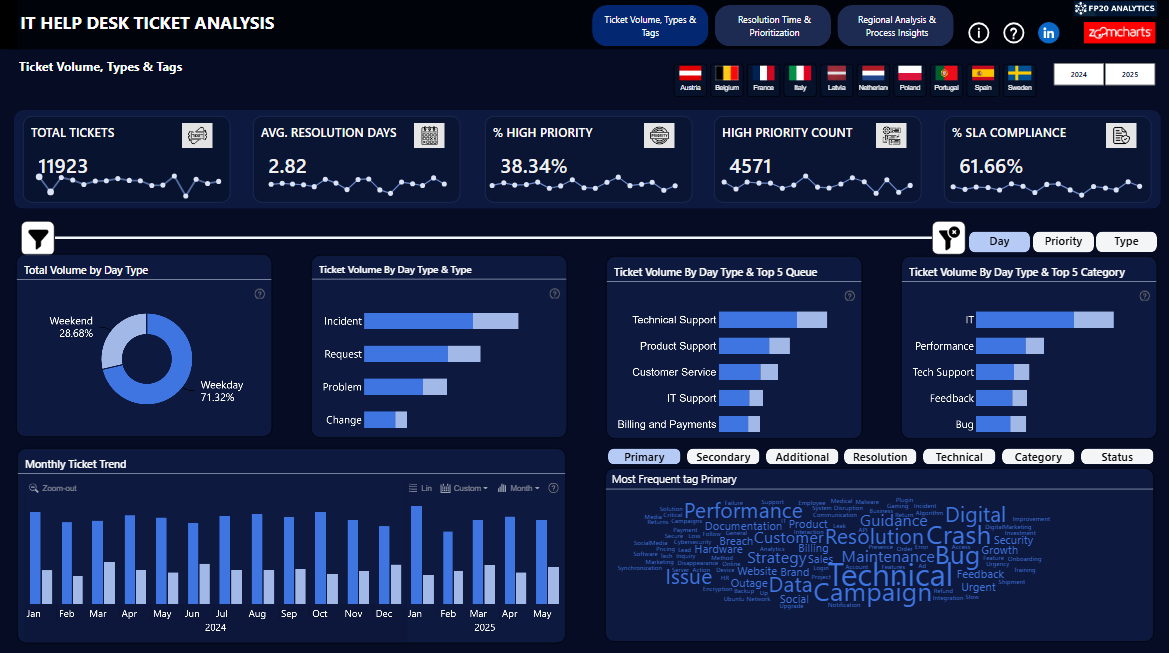

The page's visual inventory and layout, read from the dashboard file:
{"tool":"powerbi","page":{"name":"Ticket Volume, Types & Tags","canvas":[1920,1080],"ordinal":0},"visuals":[{"type":"textbox","box":[0,0,31.6,83.5],"z":0},{"type":"shape","box":[24.2,128.7,1880.3,162],"z":0,"group":"g10"},{"type":"cardVisual","title":"AVG. RESOLUTION DAYS","fields":{"Data":["dax_measures.Avg Resolution Days"]},"box":[415,138.5,340,141.8],"z":0,"group":"g4"},{"type":"cardVisual","title":"% HIGH PRIORITY ","fields":{"Data":["dax_measures.High Priority %"]},"box":[794.4,138.5,340,141.8],"z":0,"group":"g3"},{"type":"cardVisual","title":"HIGH PRIORITY COUNT","fields":{"Data":["dax_measures.High Priority"]},"box":[1171.2,138.5,340,141.8],"z":0,"group":"g2"},{"type":"cardVisual","title":"% SLA COMPLIANCE ","fields":{"Data":["dax_measures.SLA Compliance %"]},"box":[1548.3,138.5,340,141.8],"z":0,"group":"g1"},{"type":"cardVisual","title":"TOTAL TICKETS ","fields":{"Data":["dax_measures.Total Tickets"]},"box":[38.2,139.1,340,141.8],"z":0,"group":"g6"},{"type":"actionButton","box":[1593.9,323.9,100,38.6],"z":0,"group":"g7"},{"type":"actionButton","box":[1596,325.6,100,38.6],"z":0,"group":"g8"},{"type":"ZoomChartsPieChartPaidE77E4ED357DC402ABA005987437CF500","title":"Total Volume by Day Type ","fields":{"Category":["dim_date.Weekend Flag"],"Values":["dax_measures.Total Tickets"]},"box":[32.1,379,432.8,326.2],"z":0,"group":"g5"},{"type":"actionButton","box":[935.7,718.6,120,40],"z":0,"group":"g9"},{"type":"group","id":"g1","title":"KPI Cards","box":[38.2,138.5,1850.1,143.1],"z":1000,"group":"g10"},{"type":"group","id":"g2","title":"Group 4","box":[1171.2,138.5,340,141.8],"z":1000,"group":"g1"},{"type":"image","box":[679.6,150.7,50,40.5],"z":1000,"group":"g4"},{"type":"image","box":[1055.4,150.7,50,40.5],"z":1000,"group":"g3"},{"type":"image","box":[1436.8,150.7,50,40.5],"z":1000,"group":"g2"},{"type":"lineChart","fields":{"Category":["dim_date.Date.Variation.Date Hierarchy.Year","dim_date.Date.Variation.Date Hierarchy.Quarter","dim_date.Date.Variation.Date Hierarchy.Month"],"Y":["dax_measures.Total Tickets"]},"box":[49.1,220.1,324.3,61.3],"z":1000,"group":"g6"},{"type":"actionButton","title":"PRIORITY","box":[1698.6,324.3,100,38.6],"z":1000,"group":"g7"},{"type":"actionButton","title":"PRIORITY","box":[1700.7,326,100,38.6],"z":1000,"group":"g8"},{"type":"shape","box":[22.9,364.3,1887.1,702.9],"z":1000},{"type":"ZoomChartsDrillDownComboBarProE77E4ED357DC402ABA005987437CF8","title":"Ticket Volume By Day Type & Type ","fields":{"Values1":["dax_measures.Total Tickets"],"Legend":["dim_date.Weekend Flag"],"Category":["fact_tickets.Type"]},"box":[475.4,381.5,452.3,325],"z":1000,"group":"g5"},{"type":"actionButton","box":[1065.7,718.6,120,40],"z":1000,"group":"g9"},{"type":"image","box":[299.6,150.7,50,40.5],"z":2000,"group":"g6"},{"type":"image","box":[1813.9,150.7,50,40.5],"z":2000,"group":"g1"},{"type":"lineChart","fields":{"Category":["dim_date.Date.Variation.Date Hierarchy.Year","dim_date.Date.Variation.Date Hierarchy.Quarter","dim_date.Date.Variation.Date Hierarchy.Month"],"Y":["dax_measures.Avg Resolution Days"]},"box":[429.2,219.5,313.9,62.1],"z":2000,"group":"g4"},{"type":"lineChart","fields":{"Category":["dim_date.Date.Variation.Date Hierarchy.Year","dim_date.Date.Variation.Date Hierarchy.Quarter","dim_date.Date.Variation.Date Hierarchy.Month"],"Y":["dax_measures.High Priority %"]},"box":[791.8,219.5,330,60.8],"z":2000,"group":"g3"},{"type":"lineChart","fields":{"Category":["dim_date.Date.Variation.Date Hierarchy.Year","dim_date.Date.Variation.Date Hierarchy.Quarter","dim_date.Date.Variation.Date Hierarchy.Month"],"Y":["dax_measures.High Priority"]},"box":[1172.5,219.5,335,60.8],"z":2000,"group":"g2"},{"type":"shape","box":[82.8,269,1437.9,110.3],"z":2000},{"type":"actionButton","box":[1802.6,324.1,100,38],"z":2000,"group":"g7"},{"type":"actionButton","box":[1804.7,325.8,100,38],"z":2000,"group":"g8"},{"type":"ZoomChartsDrillDownComboBarProE77E4ED357DC402ABA005987437CF8","title":"Ticket Volume By Day Type & Top 5 Queue","fields":{"Values1":["dax_measures.Total Tickets"],"Legend":["dim_date.Weekend Flag"],"Category":["fact_tickets.Queue"]},"box":[938,382.3,478.7,324.6],"z":2000,"group":"g5"},{"type":"actionButton","box":[1195.7,718.6,120,40],"z":2000,"group":"g9"},{"type":"textbox","title":"IT HELP DESK TICKET ANALYSIS","box":[31.8,0,1888.2,83],"z":3000},{"type":"group","id":"g3","title":"Group 3","box":[791.8,138.5,342.6,141.8],"z":3000,"group":"g1"},{"type":"ZoomChartsDrillDownTimelinePro7F6C01BA1C534E9AB4A6BCCB44F591","title":"Monthly Ticket Trend","fields":{"Values1":["dax_measures.Total Tickets"],"Category":["dim_date.Date.Variation.Date Hierarchy.Year","dim_date.Date.Variation.Date Hierarchy.Quarter","dim_date.Date.Variation.Date Hierarchy.Month","dim_date.Date.Variation.Date Hierarchy.Day"],"DateValue":["Min(dim_date.Date)"],"Legend":["dim_date.Weekend Flag"]},"box":[38.5,716.9,890.8,340],"z":3000,"group":"g5"},{"type":"actionButton","box":[1325.7,718.6,120,40],"z":3000,"group":"g9"},{"type":"textbox","title":"Ticket Volume, Types & Tags","box":[22.9,90,371.4,60],"z":4000},{"type":"lineChart","fields":{"Category":["dim_date.Date.Variation.Date Hierarchy.Year","dim_date.Date.Variation.Date Hierarchy.Quarter","dim_date.Date.Variation.Date Hierarchy.Month"],"Y":["dax_measures.SLA Compliance %"]},"box":[1547.5,219.5,335.7,61.3],"z":4000,"group":"g1"},{"type":"ZoomChartsDrillDownComboBarProE77E4ED357DC402ABA005987437CF8","title":"Ticket Volume By Day Type & Top 5 Category","fields":{"Values1":["dax_measures.Total Tickets"],"Category":["fact_tickets.Category Tag"],"Legend":["dim_date.Weekend Flag"]},"box":[1423.1,381.5,480,324.6],"z":4000,"group":"g5"},{"type":"actionButton","box":[1455.7,718.6,120,40],"z":4000,"group":"g9"},{"type":"group","id":"g4","title":"Group 2","box":[415,138.5,340,143.1],"z":5000,"group":"g1"},{"type":"group","id":"g5","title":"Day Type Plots","box":[32.1,379,1871,677.9],"z":5000},{"type":"actionButton","box":[1585.7,718.6,120,40],"z":5000,"group":"g9"},{"type":"group","id":"g6","title":"Group 1","box":[38.2,139.1,340,142.3],"z":6000,"group":"g1"},{"type":"actionButton","box":[1715.7,718.6,120,40],"z":6000,"group":"g9"},{"type":"group","id":"g7","title":"Slicer Buttons","box":[1593.9,323.9,308.7,39],"z":8000},{"type":"group","id":"g8","title":"Slicer Buttons Day Active ","box":[1596,325.6,308.9,39.4],"z":11000},{"type":"group","id":"g9","title":"Tag Buttons Primary","box":[935.7,718.6,900,40],"z":12000},{"type":"WordCloud1447959067750","title":"Most Frequent tag Status","fields":{"Category":["fact_tickets.Status Tag"]},"box":[939.1,758.6,962.8,299],"z":19000},{"type":"WordCloud1447959067750","title":"Most Frequent tag Category ","fields":{"Category":["fact_tickets.Category Tag"]},"box":[936.1,757.4,967.2,300],"z":20000},{"type":"WordCloud1447959067750","title":"Most Frequent tag Technical ","fields":{"Category":["fact_tickets.Technical Tag"]},"box":[936.4,757.3,952.2,300.3],"z":21000},{"type":"WordCloud1447959067750","title":"Most Frequent tag Resolution","fields":{"Category":["fact_tickets.Resolution Tag"]},"box":[939.1,758.6,949.6,299],"z":22000},{"type":"WordCloud1447959067750","title":"Most Frequent tag Additional ","fields":{"Category":["fact_tickets.Additional Tag"]},"box":[939.1,757.3,949.6,300.3],"z":23000},{"type":"WordCloud1447959067750","title":"Most Frequent tag Secondary","fields":{"Category":["fact_tickets.Secondary Tag"]},"box":[939.1,757.3,949.6,299],"z":24000},{"type":"WordCloud1447959067750","title":"Most Frequent tag Primary ","fields":{"Category":["fact_tickets.Primary Tag"]},"box":[936.4,758.6,966.7,297.7],"z":25000},{"type":"group","id":"g10","title":"Group 6","box":[24.2,128.7,1880.6,162],"z":26000},{"type":"image","box":[1520.7,296.6,55.2,55.2],"z":27000},{"type":"image","box":[24.6,296.7,55.7,55.7],"z":28000},{"type":"image","box":[1758,35.2,162.5,45.5],"z":30000},{"type":"image","box":[1758,0,148.4,34.8],"z":31000},{"type":"image","box":[1700.4,34.8,45.4,45.4],"z":32000},{"type":"actionButton","box":[1585.4,34.8,45.4,45.4],"z":33000},{"type":"actionButton","box":[1642.9,34.8,45.4,45.4],"z":34000},{"type":"slicer","fields":{"Values":["dim_date.Year"]},"box":[1703,85.1,216.4,50],"z":35000},{"type":"pageNavigator","box":[969.4,11.9,605.9,73.8],"z":37000}]}

Visuals, with their boxes in screenshot pixels (x1, y1, x2, y2), scaled from the page's 1920x1080 canvas onto the 1169x653 screenshot:
textbox: Rect(0, 0, 19, 50)
shape: Rect(15, 78, 1160, 176)
"AVG. RESOLUTION DAYS" cardVisual: Rect(253, 84, 460, 169)
"% HIGH PRIORITY " cardVisual: Rect(484, 84, 691, 169)
"HIGH PRIORITY COUNT" cardVisual: Rect(713, 84, 920, 169)
"% SLA COMPLIANCE " cardVisual: Rect(943, 84, 1150, 169)
"TOTAL TICKETS " cardVisual: Rect(23, 84, 230, 170)
actionButton: Rect(970, 196, 1031, 219)
actionButton: Rect(972, 197, 1033, 220)
"Total Volume by Day Type " ZoomChartsPieChartPaidE77E4ED357DC402ABA005987437CF500: Rect(20, 229, 283, 426)
actionButton: Rect(570, 434, 643, 459)
"KPI Cards" group: Rect(23, 84, 1150, 170)
"Group 4" group: Rect(713, 84, 920, 169)
image: Rect(414, 91, 444, 116)
image: Rect(643, 91, 673, 116)
image: Rect(875, 91, 905, 116)
lineChart - dim_date.Date.Variation.Date Hierarchy.Year x dim_date.Date.Variation.Date Hierarchy.Quarter: Rect(30, 133, 227, 170)
"PRIORITY" actionButton: Rect(1034, 196, 1095, 219)
"PRIORITY" actionButton: Rect(1035, 197, 1096, 220)
shape: Rect(14, 220, 1163, 645)
"Ticket Volume By Day Type & Type " ZoomChartsDrillDownComboBarProE77E4ED357DC402ABA005987437CF8: Rect(289, 231, 565, 427)
actionButton: Rect(649, 434, 722, 459)
image: Rect(182, 91, 213, 116)
image: Rect(1104, 91, 1135, 116)
lineChart - dim_date.Date.Variation.Date Hierarchy.Year x dim_date.Date.Variation.Date Hierarchy.Quarter: Rect(261, 133, 452, 170)
lineChart - dim_date.Date.Variation.Date Hierarchy.Year x dim_date.Date.Variation.Date Hierarchy.Quarter: Rect(482, 133, 683, 169)
lineChart - dim_date.Date.Variation.Date Hierarchy.Year x dim_date.Date.Variation.Date Hierarchy.Quarter: Rect(714, 133, 918, 169)
shape: Rect(50, 163, 926, 229)
actionButton: Rect(1098, 196, 1158, 219)
actionButton: Rect(1099, 197, 1160, 220)
"Ticket Volume By Day Type & Top 5 Queue" ZoomChartsDrillDownComboBarProE77E4ED357DC402ABA005987437CF8: Rect(571, 231, 863, 427)
actionButton: Rect(728, 434, 801, 459)
"IT HELP DESK TICKET ANALYSIS" textbox: Rect(19, 0, 1168, 50)
"Group 3" group: Rect(482, 84, 691, 169)
"Monthly Ticket Trend" ZoomChartsDrillDownTimelinePro7F6C01BA1C534E9AB4A6BCCB44F591: Rect(23, 433, 566, 639)
actionButton: Rect(807, 434, 880, 459)
"Ticket Volume, Types & Tags" textbox: Rect(14, 54, 240, 91)
lineChart - dim_date.Date.Variation.Date Hierarchy.Year x dim_date.Date.Variation.Date Hierarchy.Quarter: Rect(942, 133, 1147, 170)
"Ticket Volume By Day Type & Top 5 Category" ZoomChartsDrillDownComboBarProE77E4ED357DC402ABA005987437CF8: Rect(866, 231, 1159, 427)
actionButton: Rect(886, 434, 959, 459)
"Group 2" group: Rect(253, 84, 460, 170)
"Day Type Plots" group: Rect(20, 229, 1159, 639)
actionButton: Rect(965, 434, 1039, 459)
"Group 1" group: Rect(23, 84, 230, 170)
actionButton: Rect(1045, 434, 1118, 459)
"Slicer Buttons" group: Rect(970, 196, 1158, 219)
"Slicer Buttons Day Active " group: Rect(972, 197, 1160, 221)
"Tag Buttons Primary" group: Rect(570, 434, 1118, 459)
"Most Frequent tag Status" WordCloud1447959067750: Rect(572, 459, 1158, 639)
"Most Frequent tag Category " WordCloud1447959067750: Rect(570, 458, 1159, 639)
"Most Frequent tag Technical " WordCloud1447959067750: Rect(570, 458, 1150, 639)
"Most Frequent tag Resolution" WordCloud1447959067750: Rect(572, 459, 1150, 639)
"Most Frequent tag Additional " WordCloud1447959067750: Rect(572, 458, 1150, 639)
"Most Frequent tag Secondary" WordCloud1447959067750: Rect(572, 458, 1150, 639)
"Most Frequent tag Primary " WordCloud1447959067750: Rect(570, 459, 1159, 639)
"Group 6" group: Rect(15, 78, 1160, 176)
image: Rect(926, 179, 959, 213)
image: Rect(15, 179, 49, 213)
image: Rect(1070, 21, 1168, 49)
image: Rect(1070, 0, 1161, 21)
image: Rect(1035, 21, 1063, 48)
actionButton: Rect(965, 21, 993, 48)
actionButton: Rect(1000, 21, 1028, 48)
slicer - dim_date.Year: Rect(1037, 51, 1168, 82)
pageNavigator: Rect(590, 7, 959, 52)
